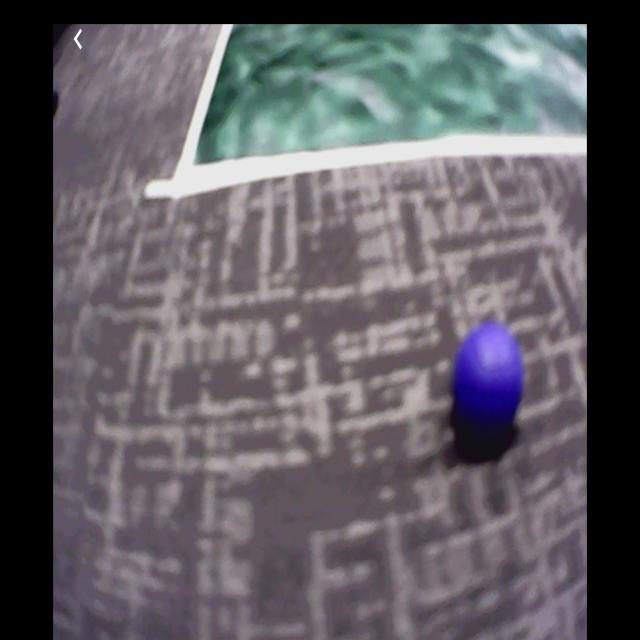ball: (455, 323, 525, 432)
